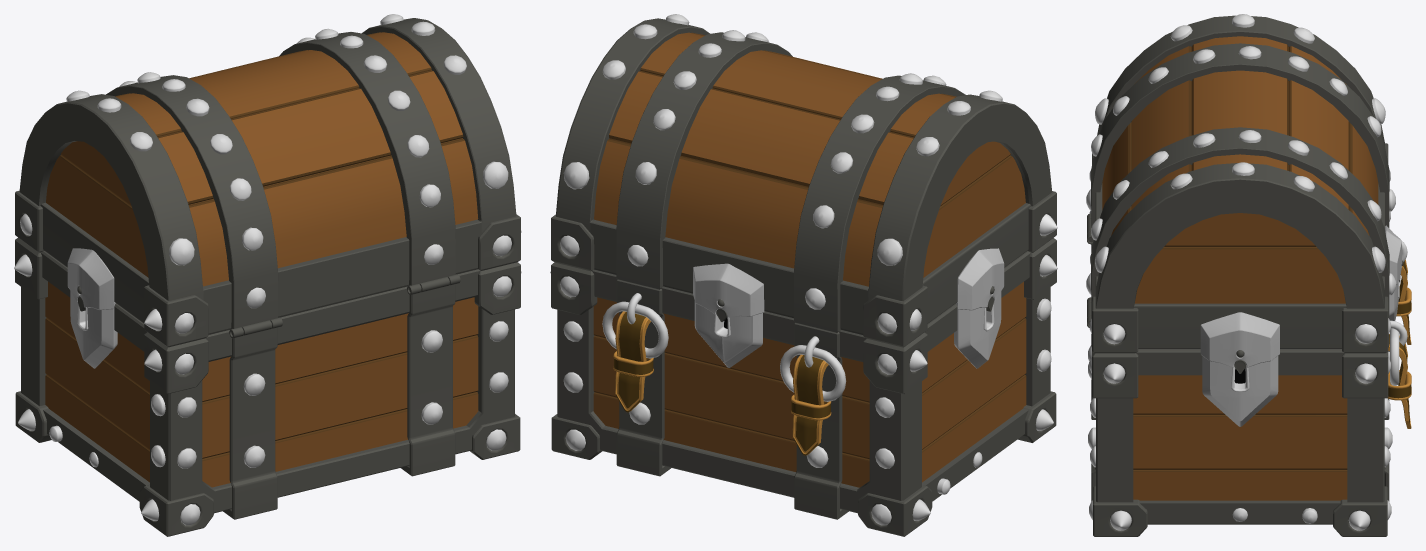
File: Chest.fbx
3 renders of one model, left to right at view 1: azimuth 30°, elevation 25°; view 2: azimuth 150°, elevation 25°; view 3: azimuth 270°, elevation 25°, orthographic. The views are drawn at different scales.
Parts seen in each view (by area): view 1: upperbox, lowerbox; view 2: upperbox, lowerbox; view 3: upperbox, lowerbox.
Boxes of the visible parts, box(x1,y1,x2,y2) form: upperbox: box(15, 14, 521, 347); lowerbox: box(14, 237, 521, 536); upperbox: box(551, 14, 1057, 347); lowerbox: box(550, 238, 1057, 536); upperbox: box(1086, 14, 1403, 373); lowerbox: box(1088, 211, 1411, 536).
Size of the model in its own units: 84.8 by 80.36 by 64.97.
